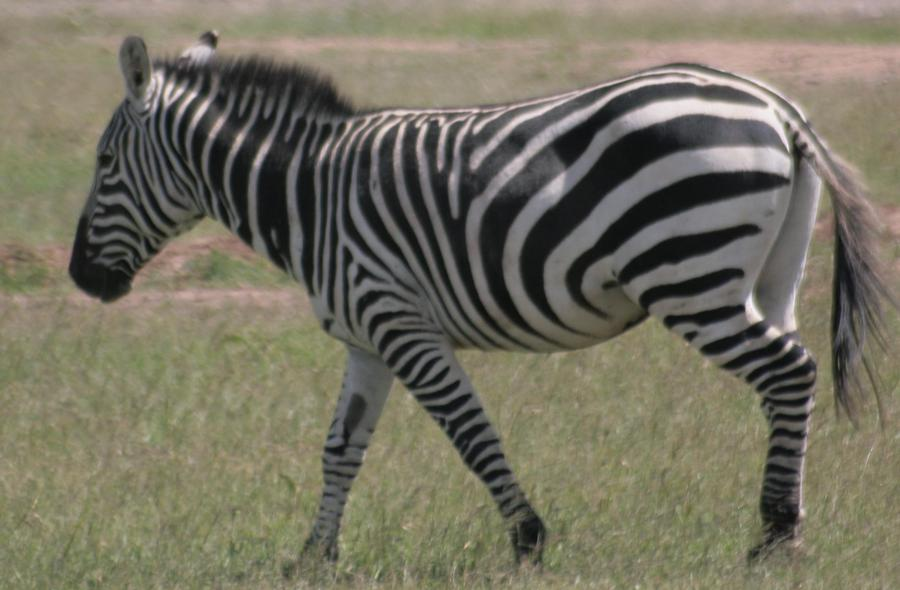zebra_plains: (280, 88, 788, 353)
